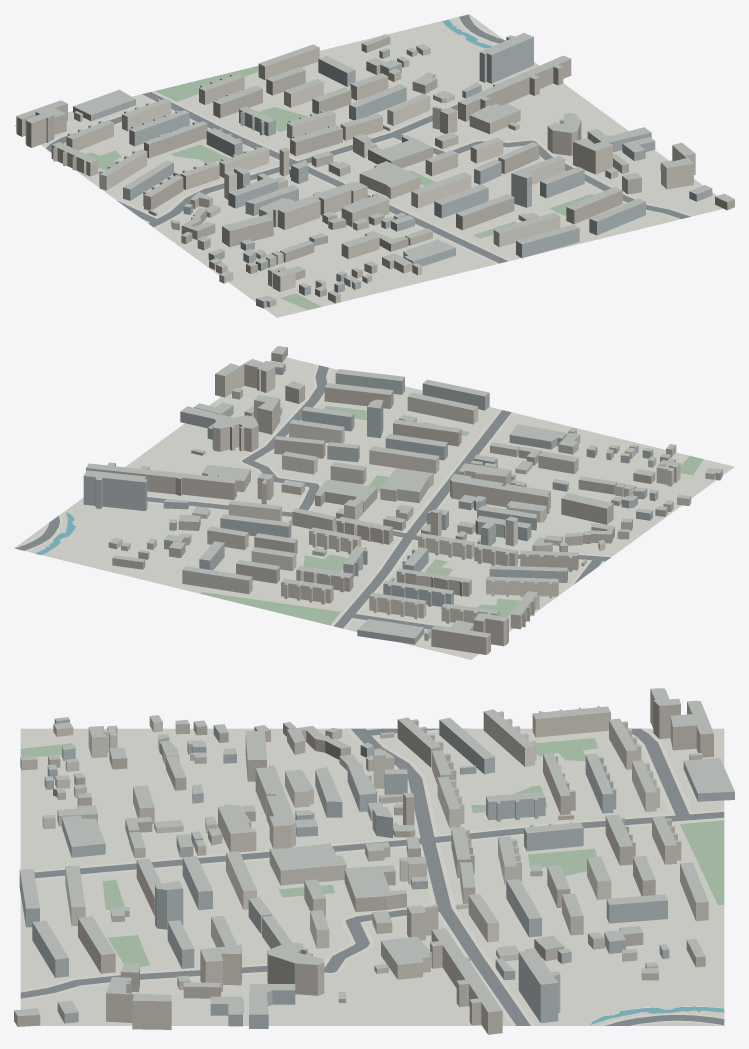
The picture shows the model from 3 angles, top to bottom: view 1: azimuth 30°, elevation 25°; view 2: azimuth 150°, elevation 25°; view 3: azimuth 270°, elevation 25°; orthographic projection. The views are drawn at different scales.
Visible parts, largest first — view 1: city; view 2: city; view 3: city.
Part boxes in pixels (box(x1,y1,x2,y2)): city: box(14, 14, 734, 317); city: box(14, 346, 734, 659); city: box(14, 688, 734, 1034).
Size of the model in its own units: 527 by 31.28 by 512.
